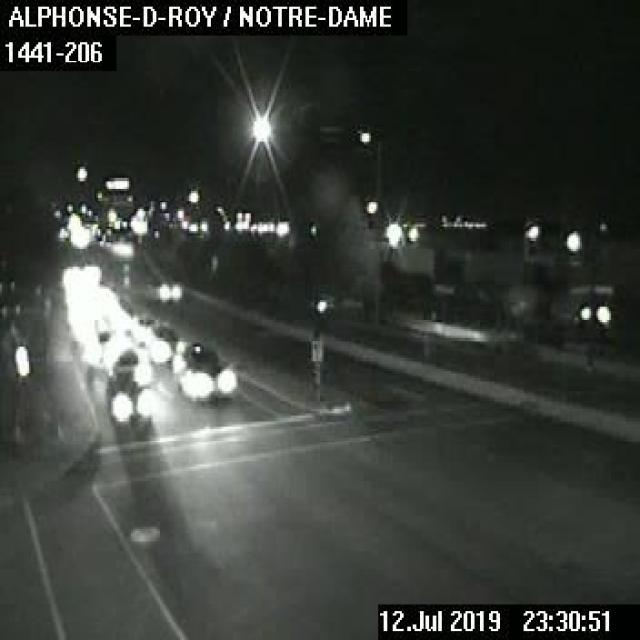vehicle: (97, 346, 160, 429), (176, 341, 236, 406)
